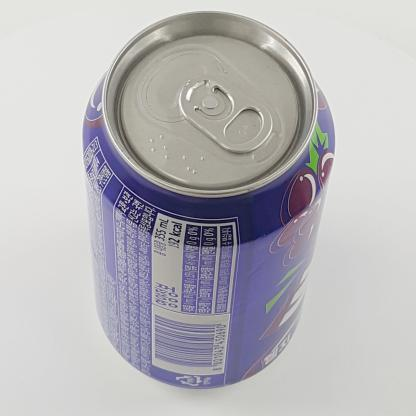alumunium_can: (78, 3, 345, 416)
